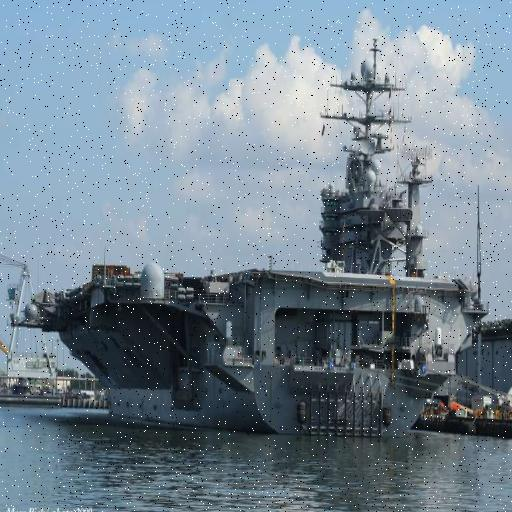Portanaves: (13, 32, 490, 445)
